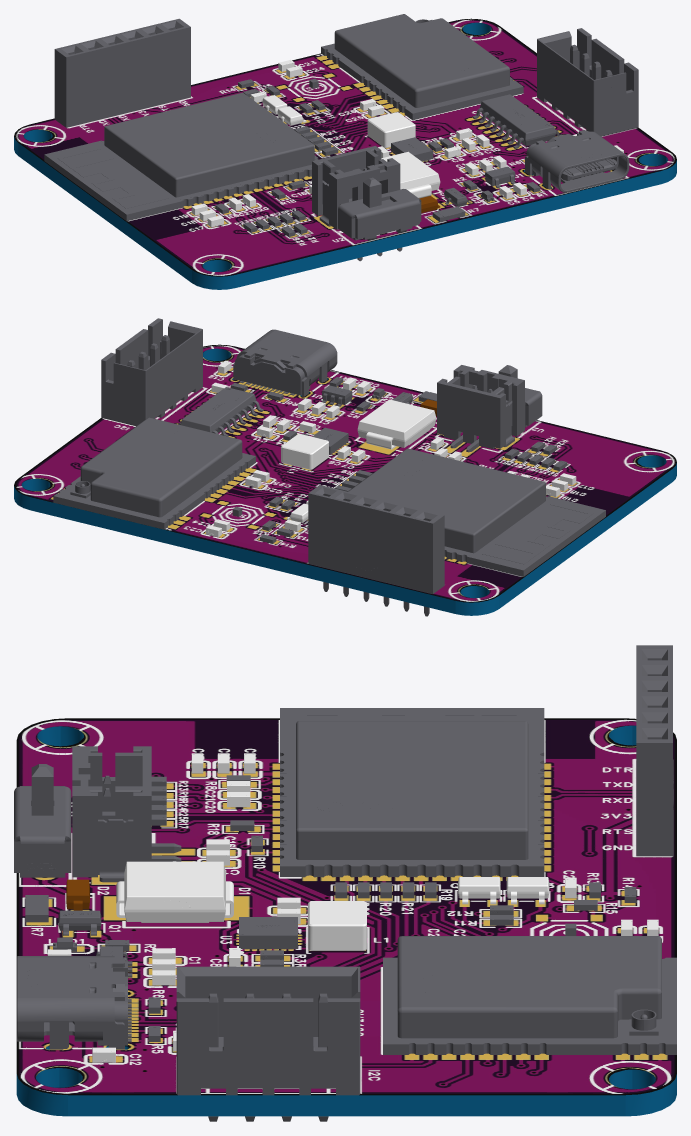
File: transmitter.glb
3 renders of one model, top to bottom at view 1: azimuth 30°, elevation 25°; view 2: azimuth 150°, elevation 25°; view 3: azimuth 270°, elevation 25°, orthographic. The views are drawn at different scales.
Parts seen in each view (by area): view 1: Board-mesh, U4-mesh, U6-mesh, U5-mesh, CN1-mesh, USB1-mesh (×2), CN2-mesh, U2-mesh (×2), U8-mesh, D1-mesh, L1-mesh, U3-mesh (+1 smaller); view 2: Board-mesh, U4-mesh, U6-mesh, U5-mesh, CN1-mesh, CN2-mesh, USB1-mesh (×2), D1-mesh, U8-mesh, L1-mesh, U2-mesh, U3-mesh (+1 smaller); view 3: Board-mesh, U4-mesh, U6-mesh, CN1-mesh, CN2-mesh (×2), USB1-mesh (×2), U5-mesh, D1-mesh, U2-mesh (×2), L1-mesh, U3-mesh, Q2-mesh (+3 smaller).
Boxes of the visible parts, bbox=[...] form: Board-mesh: bbox=[14, 18, 676, 289]; U4-mesh: bbox=[44, 92, 318, 221]; U6-mesh: bbox=[321, 14, 523, 120]; U5-mesh: bbox=[54, 18, 190, 127]; CN1-mesh: bbox=[537, 28, 638, 136]; USB1-mesh (×2): bbox=[525, 130, 629, 192]; CN2-mesh: bbox=[312, 146, 400, 229]; U2-mesh (×2): bbox=[338, 177, 421, 261]; U8-mesh: bbox=[480, 94, 555, 146]; D1-mesh: bbox=[381, 151, 440, 198]; L1-mesh: bbox=[367, 112, 415, 148]; U3-mesh: bbox=[391, 137, 433, 161]; Board-mesh: bbox=[14, 344, 676, 615]; U4-mesh: bbox=[348, 448, 605, 576]; U6-mesh: bbox=[53, 417, 255, 529]; U5-mesh: bbox=[308, 485, 444, 616]; CN1-mesh: bbox=[101, 318, 202, 426]; CN2-mesh: bbox=[437, 365, 524, 452]; USB1-mesh (×2): bbox=[233, 329, 337, 396]; D1-mesh: bbox=[357, 399, 436, 449]; U8-mesh: bbox=[180, 387, 256, 432]; L1-mesh: bbox=[281, 434, 328, 469]; U2-mesh: bbox=[476, 385, 542, 425]; U3-mesh: bbox=[312, 427, 348, 454]; Board-mesh: bbox=[16, 718, 676, 1116]; U4-mesh: bbox=[280, 708, 544, 877]; U6-mesh: bbox=[383, 936, 676, 1054]; CN1-mesh: bbox=[176, 966, 360, 1121]; CN2-mesh (×2): bbox=[72, 746, 181, 882]; USB1-mesh (×2): bbox=[17, 956, 127, 1049]; U5-mesh: bbox=[636, 645, 673, 856]; D1-mesh: bbox=[116, 861, 233, 922]; U2-mesh (×2): bbox=[14, 764, 71, 877]; L1-mesh: bbox=[308, 901, 366, 950]; U3-mesh: bbox=[239, 917, 297, 949]; Q2-mesh: bbox=[458, 877, 500, 904].
Size of the model in its own units: 0.0607 by 0.012 by 0.0451.
6 materials, 2 textured.
